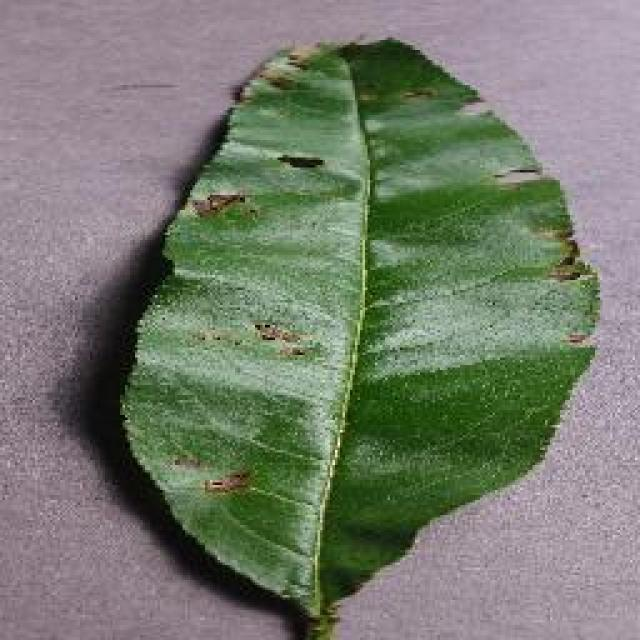Peach_Bacterial_Spot: (185, 64, 587, 528)
